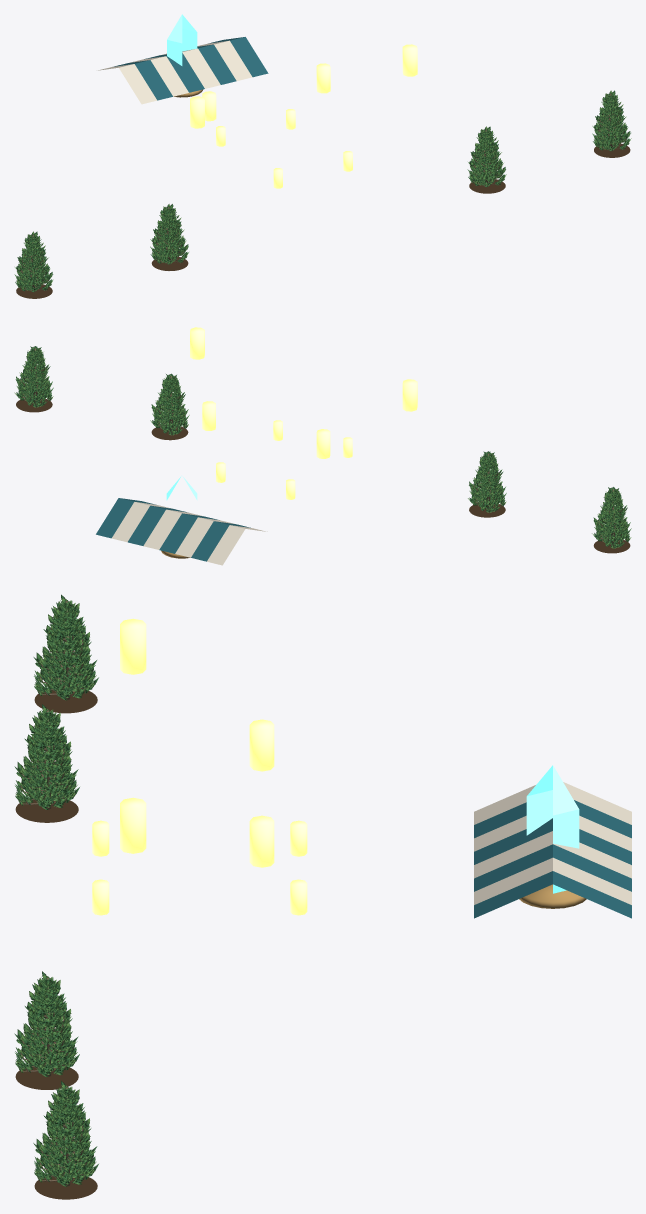
The model's file is Catalog-29.glb.
3 renders of one model, top to bottom at view 1: azimuth 30°, elevation 25°; view 2: azimuth 150°, elevation 25°; view 3: azimuth 270°, elevation 25°, orthographic. The views are drawn at different scales.
Parts seen in each view (by area): view 1: NC.MAT.Cypress0, NC.MAT.Cypress1, NC.MAT.Cypress2, Pale Carved Stone, Neris Teal Banner, Warm Lantern (×4), City Hall Planter Soil, Crystal Bright Facets, NC.MAT.BridgeTimber; view 2: NC.MAT.Cypress0, NC.MAT.Cypress1, NC.MAT.Cypress2, Pale Carved Stone, Neris Teal Banner, Warm Lantern (×4), City Hall Planter Soil, NC.MAT.BridgeTimber; view 3: NC.MAT.Cypress0, NC.MAT.Cypress1, NC.MAT.Cypress2, Warm Lantern (×4), Neris Teal Banner, Pale Carved Stone, City Hall Planter Soil, Crystal Bright Facets, NC.MAT.BridgeTimber, Aged Gold.
Part boxes in pixels (box(x1,y1,x2,y2)): NC.MAT.Cypress0: box(15, 90, 630, 292); NC.MAT.Cypress1: box(14, 92, 630, 291); NC.MAT.Cypress2: box(16, 90, 631, 290); Pale Carved Stone: box(98, 40, 252, 104); Neris Teal Banner: box(114, 37, 268, 100); Warm Lantern (×4): box(190, 44, 417, 188); City Hall Planter Soil: box(16, 143, 630, 298); Crystal Bright Facets: box(167, 14, 197, 65); NC.MAT.BridgeTimber: box(19, 93, 626, 291); NC.MAT.Cypress0: box(16, 346, 629, 548); NC.MAT.Cypress1: box(15, 346, 631, 547); NC.MAT.Cypress2: box(14, 348, 631, 548); Pale Carved Stone: box(111, 502, 267, 565); Neris Teal Banner: box(96, 498, 250, 561); Warm Lantern (×4): box(190, 327, 417, 499); City Hall Planter Soil: box(16, 398, 630, 553); NC.MAT.BridgeTimber: box(20, 348, 626, 547); NC.MAT.Cypress0: box(14, 594, 98, 1184); NC.MAT.Cypress1: box(15, 600, 95, 1186); NC.MAT.Cypress2: box(15, 598, 96, 1185); Warm Lantern (×4): box(92, 618, 307, 915); Neris Teal Banner: box(474, 800, 631, 918); Pale Carved Stone: box(474, 782, 631, 904); City Hall Planter Soil: box(15, 690, 97, 1199); Crystal Bright Facets: box(526, 765, 579, 893); NC.MAT.BridgeTimber: box(18, 601, 89, 1186); Aged Gold: box(519, 884, 586, 908).
Bounding box in the file's own units: 19.25 × 4 × 9.78.
